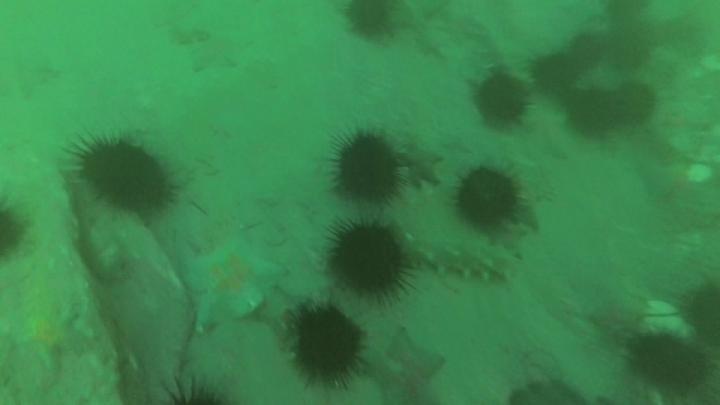echinus: (73, 135, 176, 216), (325, 219, 412, 300), (287, 303, 367, 386), (326, 129, 406, 205), (626, 332, 710, 392), (453, 165, 524, 232), (470, 69, 532, 130), (566, 86, 623, 138), (676, 277, 720, 342), (151, 372, 235, 405), (603, 25, 654, 73), (341, 1, 399, 42), (610, 80, 657, 127), (528, 51, 579, 94), (1, 199, 32, 262), (564, 30, 607, 73), (601, 1, 650, 27)
holothurian: (399, 229, 511, 281)
starfish: (180, 233, 284, 328), (370, 327, 448, 405), (10, 304, 85, 371), (584, 297, 644, 341), (396, 138, 445, 189)
